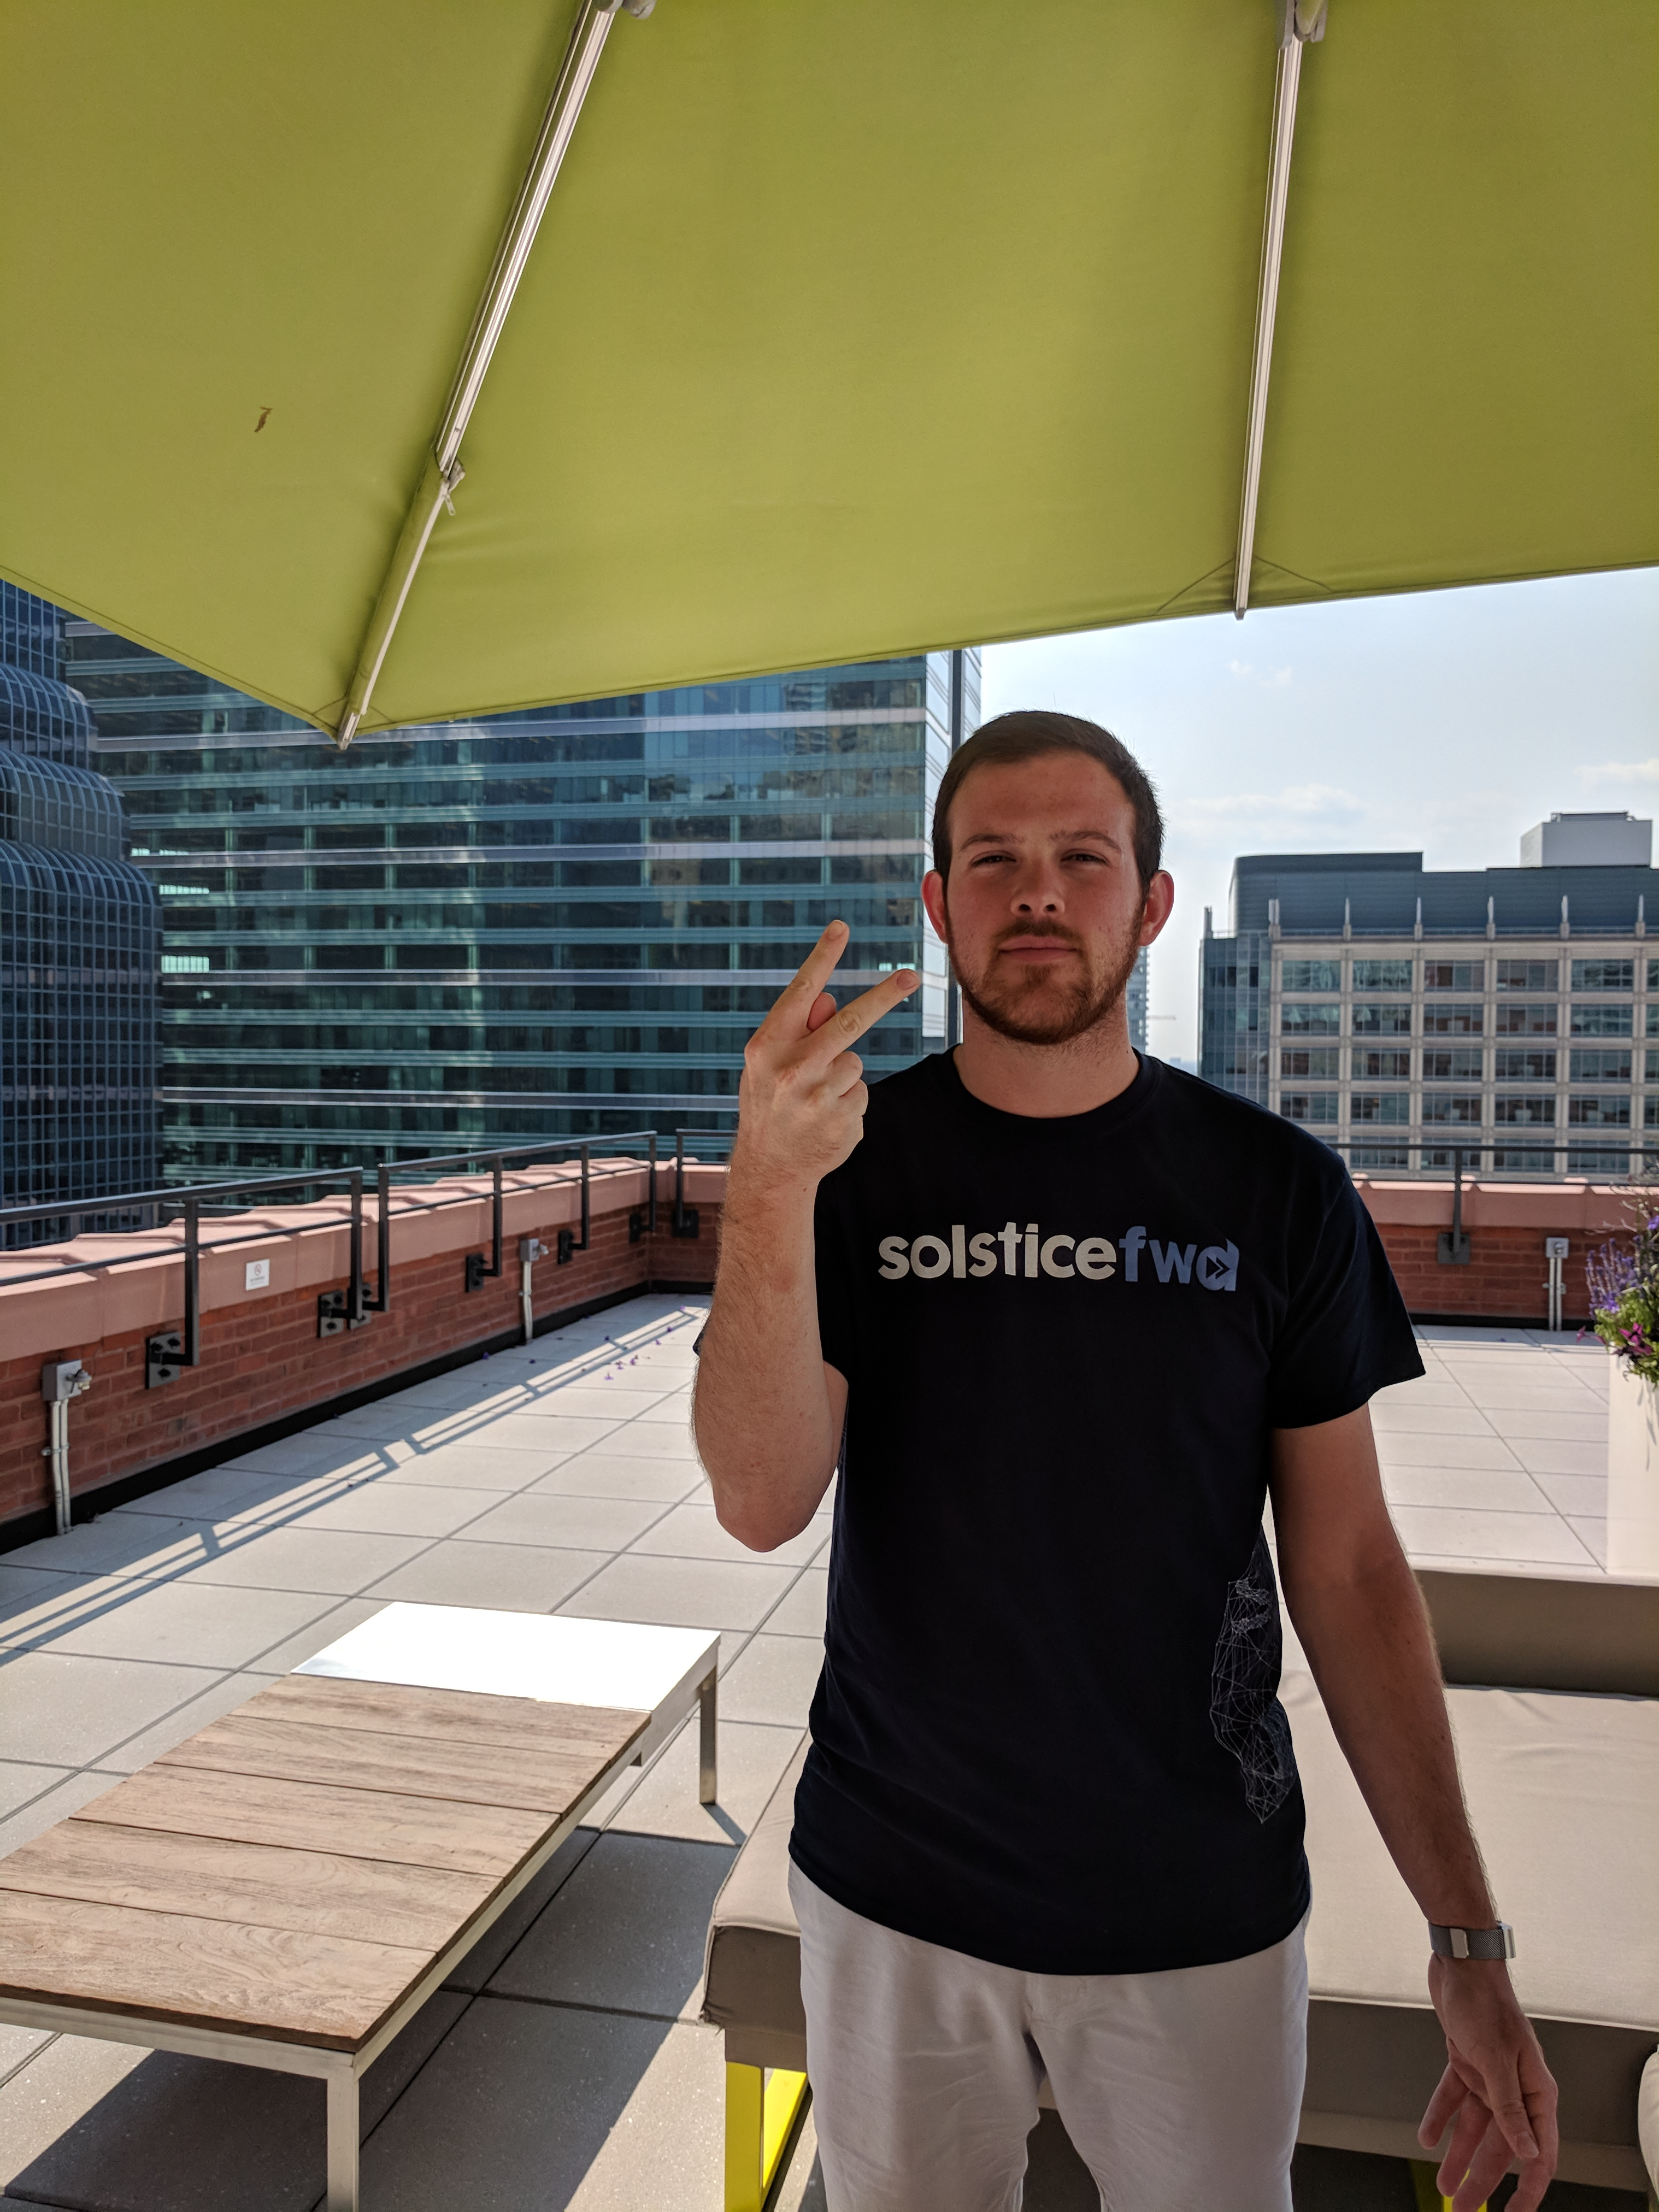k: (728, 923, 920, 1193)
